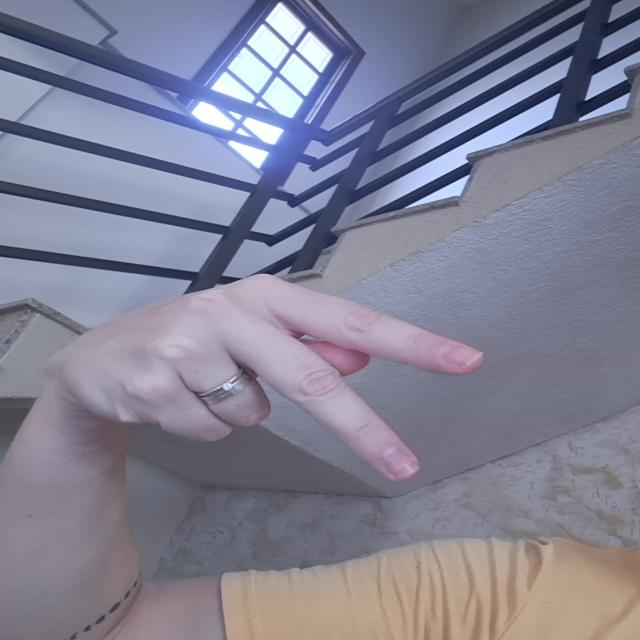P: (52, 271, 505, 492)
